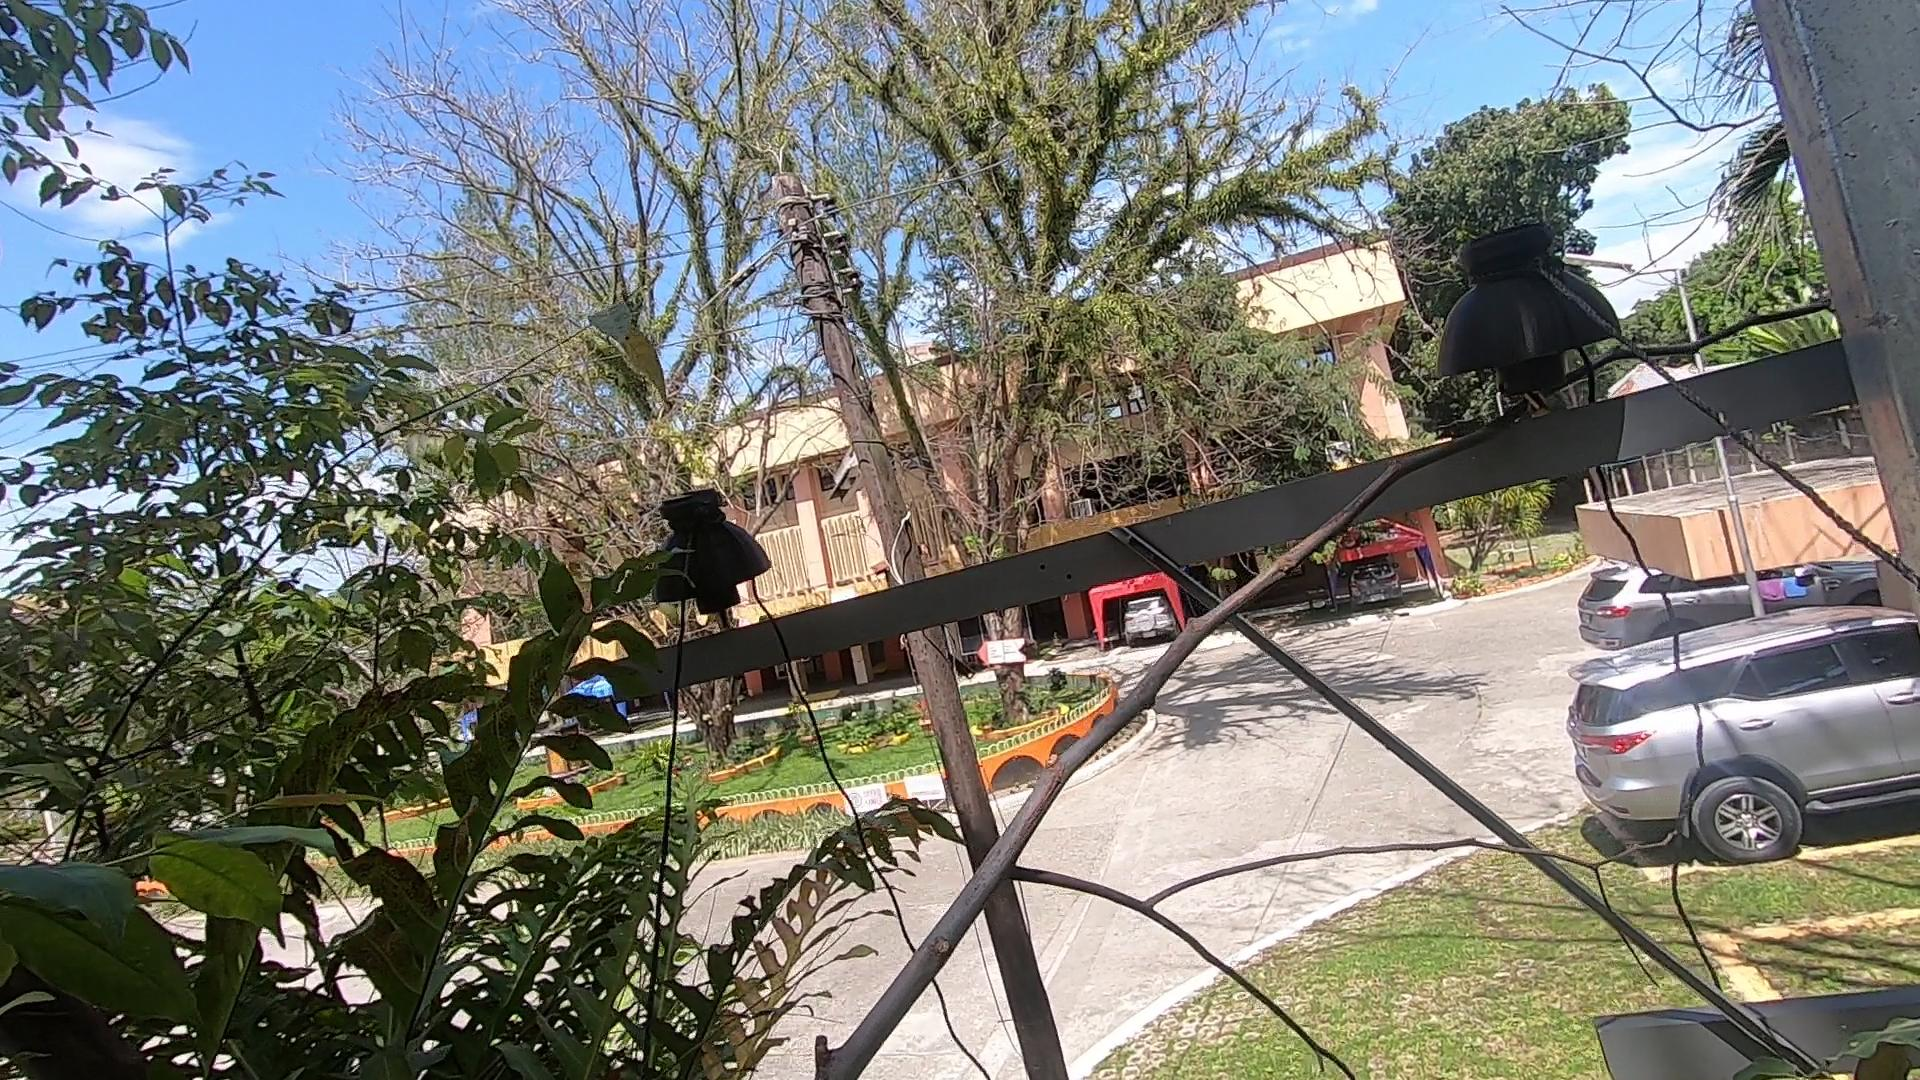tree branch: (592, 336, 1888, 1080)
